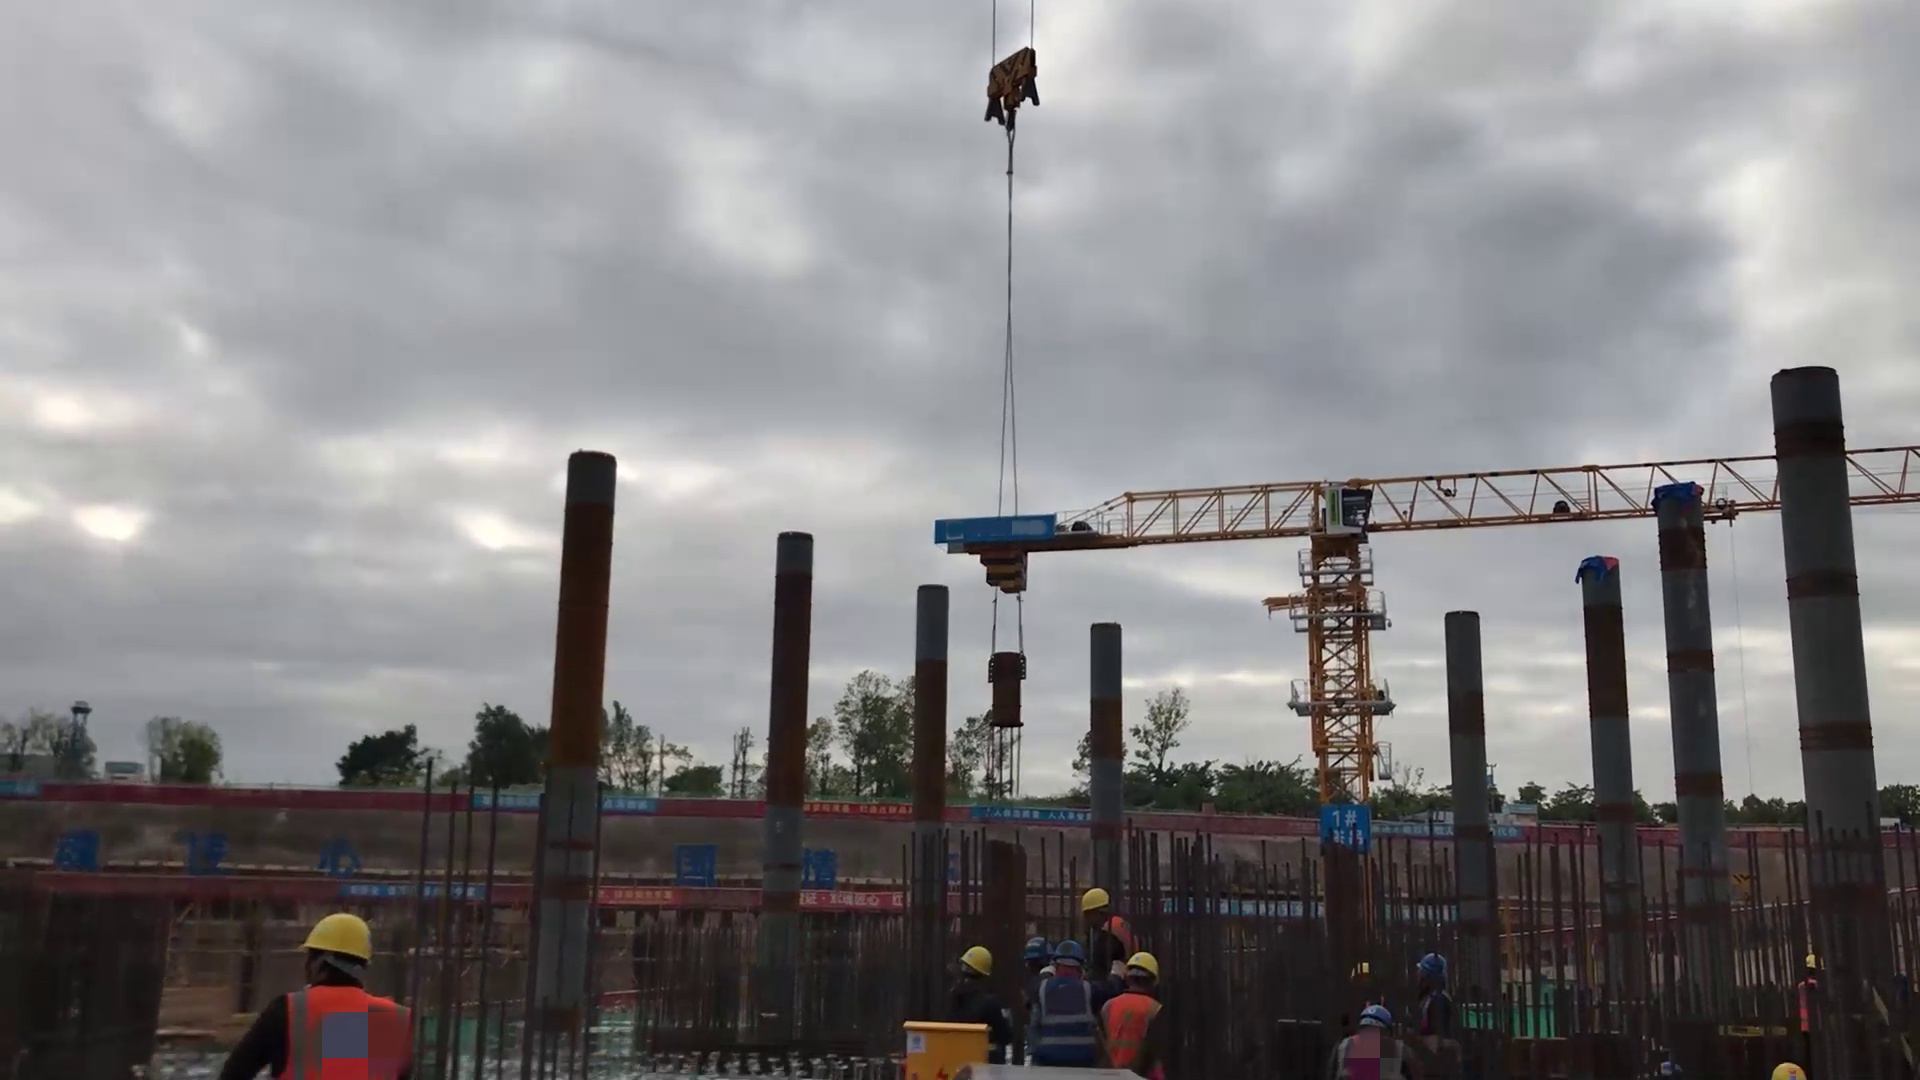ebox: (899, 1017, 979, 1080)
helmet: (296, 916, 381, 967), (1133, 951, 1166, 984), (1048, 940, 1089, 965), (965, 945, 995, 972), (1085, 890, 1113, 918), (1772, 1058, 1805, 1080), (1417, 956, 1445, 980), (1363, 1012, 1393, 1031), (1025, 941, 1051, 958), (1799, 953, 1818, 972), (1348, 968, 1371, 983)
hook: (981, 47, 1040, 127)
person: (241, 911, 421, 1080), (1089, 956, 1164, 1066), (1038, 936, 1097, 1069), (1323, 1004, 1405, 1080), (952, 941, 1009, 1027), (1413, 953, 1470, 1031), (1088, 888, 1138, 965), (1793, 941, 1828, 1034), (1341, 959, 1391, 1003), (1020, 928, 1053, 978), (1774, 1054, 1808, 1080)
vest: (264, 977, 406, 1076), (1042, 978, 1096, 1049), (1103, 985, 1155, 1051), (1419, 990, 1453, 1053), (1792, 980, 1823, 1027), (1334, 1025, 1386, 1051), (1015, 975, 1037, 1037), (959, 979, 989, 1018), (1105, 914, 1131, 958)
